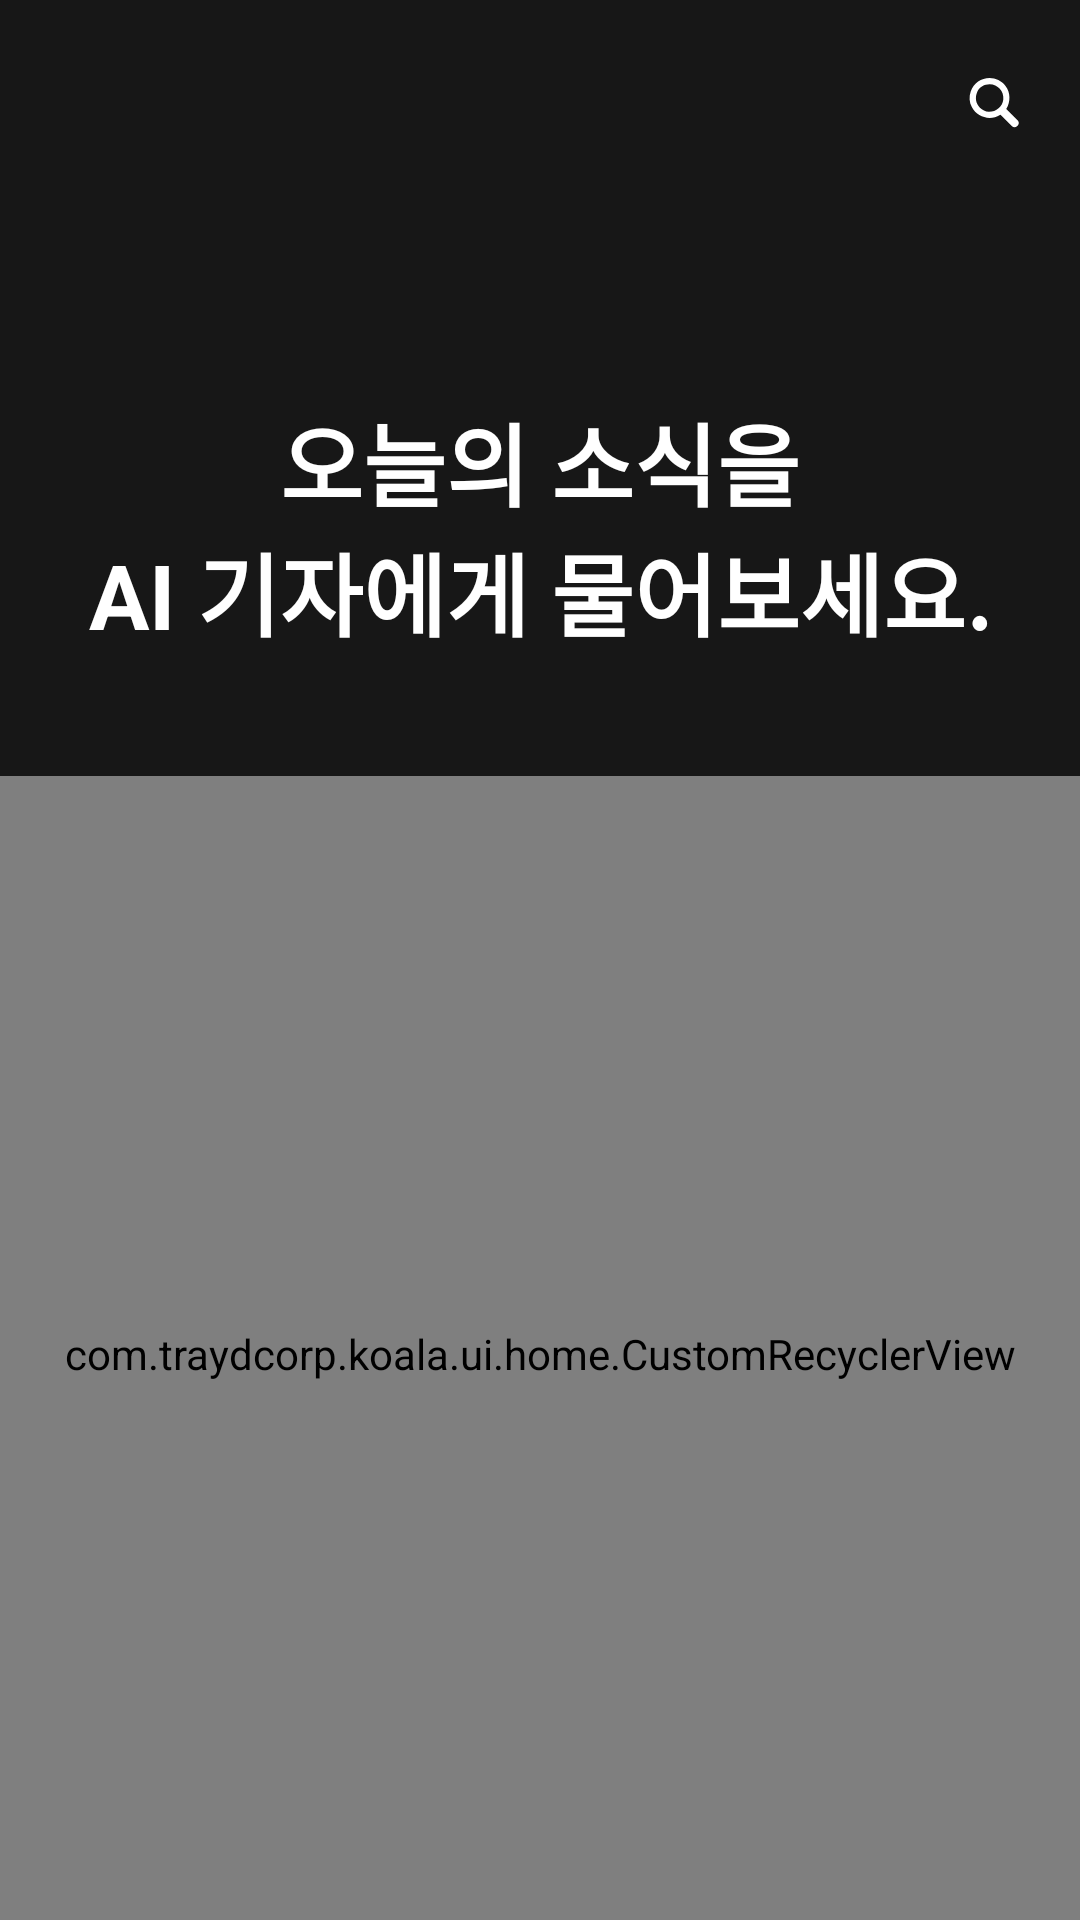

Named icons in this screenshot (1080px×1920px) and their bounding boxes, (x1, y1, x2, y2):
general search: (969, 78, 1019, 128)
